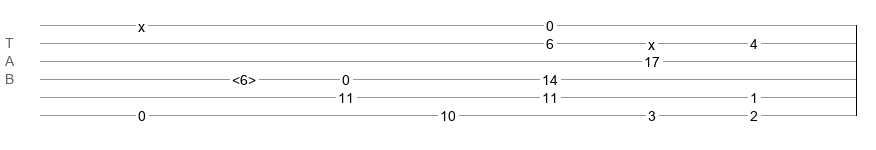0: (138, 108, 146, 118), (342, 72, 350, 82), (546, 18, 554, 28)
1: (750, 90, 758, 100)
10: (440, 108, 456, 118)
11: (338, 90, 354, 100), (542, 90, 558, 100)
14: (542, 72, 558, 82)
17: (644, 54, 660, 64)
2: (750, 108, 758, 118)
3: (648, 108, 656, 118)
4: (750, 36, 758, 46)
6: (546, 36, 554, 46)
harmonic: (232, 72, 256, 82)
x: (138, 19, 145, 27), (648, 37, 655, 45)
